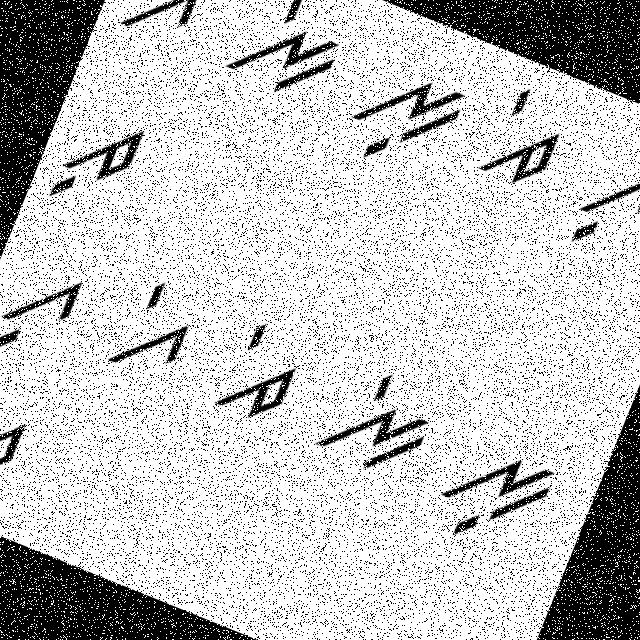ge: (92, 264, 210, 398), (107, 0, 223, 59)
gu: (554, 135, 639, 271), (0, 247, 91, 374)
nge: (304, 350, 448, 499), (204, 0, 357, 121)
ngu: (420, 417, 568, 568), (338, 40, 483, 191)
te: (474, 80, 582, 204), (205, 314, 312, 438)
tu: (34, 94, 154, 224), (0, 391, 36, 518)
